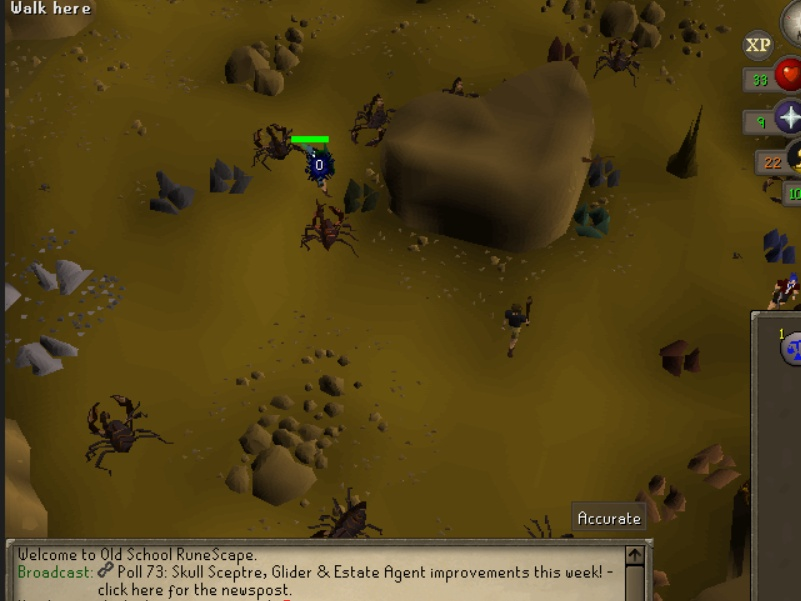adamant: (570, 199, 615, 244)
coal: (341, 173, 380, 218)
copper: (686, 439, 743, 492), (631, 471, 688, 524)
iron: (650, 333, 708, 379), (544, 31, 586, 69)
mithril: (759, 222, 799, 273)
tin: (25, 244, 99, 300), (11, 331, 91, 377)
